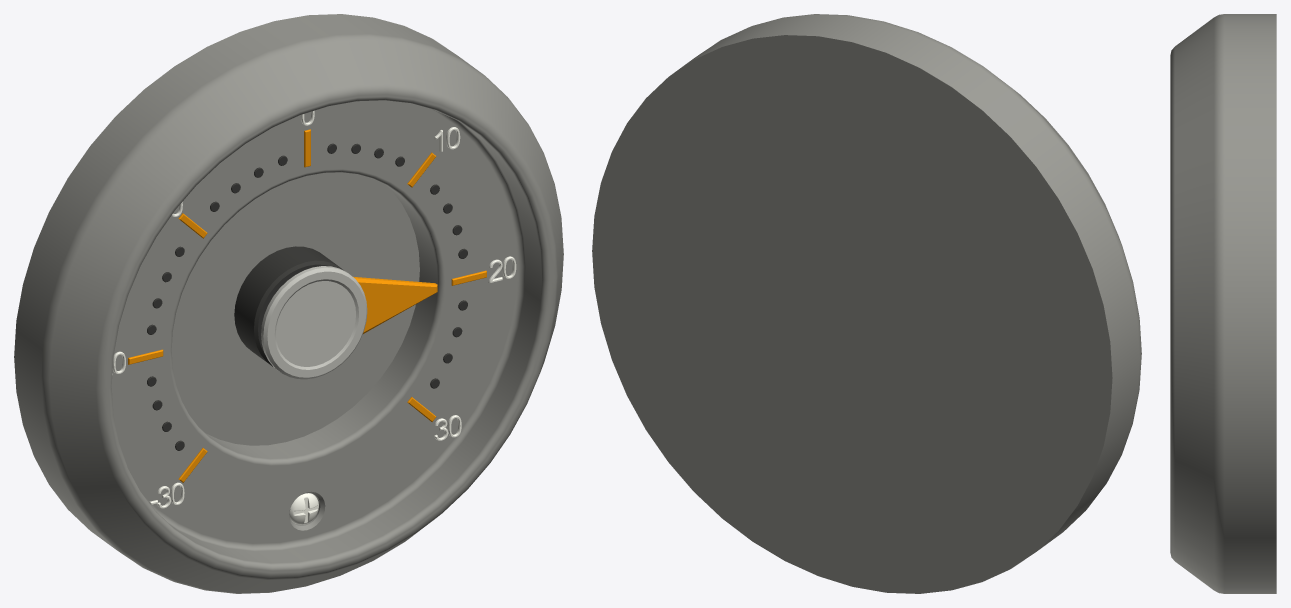
The model's file is Speedometer #9.fbx.
3 views of the same model, side by side, from view 1: azimuth 30°, elevation 25°; view 2: azimuth 150°, elevation 25°; view 3: azimuth 270°, elevation 25° (orthographic). The views are drawn at different scales.
Parts seen in each view (by area): view 1: kitbash_13; view 2: kitbash_13; view 3: kitbash_13.
Part boxes in pixels (box(x1,y1,x2,y2)): kitbash_13: box(14, 14, 563, 593); kitbash_13: box(592, 14, 1141, 593); kitbash_13: box(1170, 14, 1276, 593).
Size of the model in its own units: 15.13 by 15.13 by 2.77.
